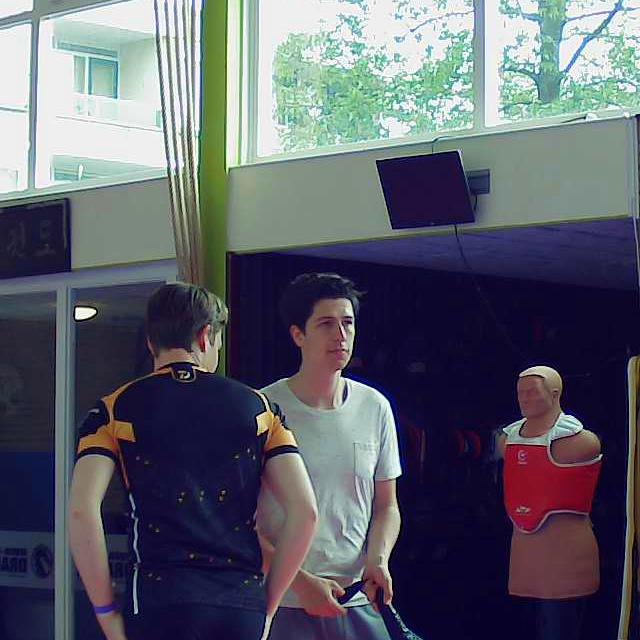paddle: (378, 596, 492, 640)
